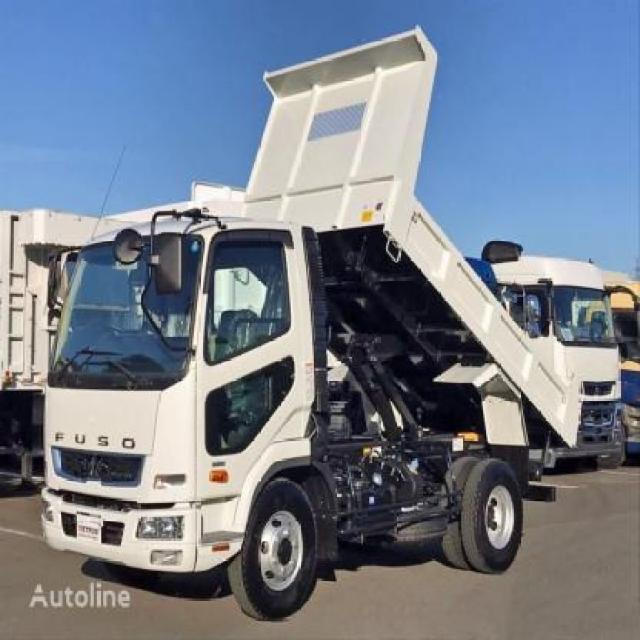truck: (33, 25, 591, 617)
